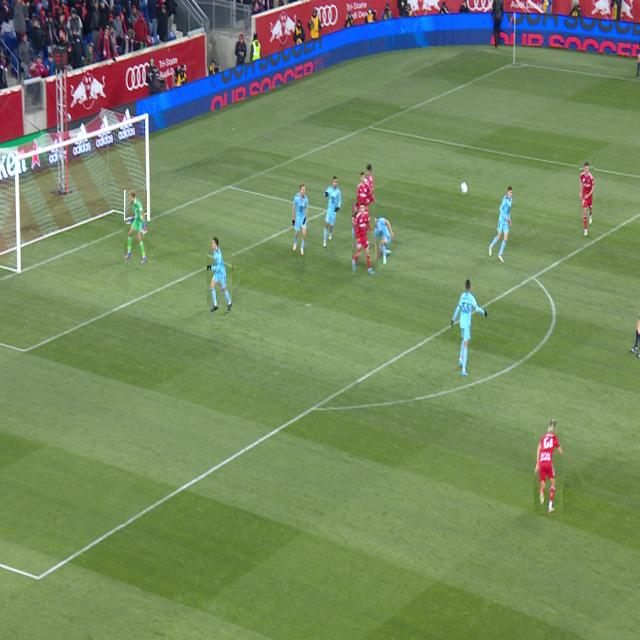football: (461, 182, 468, 196)
goalkeeper: (125, 190, 147, 263)
player: (450, 279, 487, 376), (535, 420, 563, 513), (207, 238, 232, 312), (489, 186, 513, 262), (352, 203, 375, 275), (323, 176, 341, 247), (292, 184, 308, 255), (371, 215, 394, 264), (580, 161, 594, 236), (357, 172, 373, 214), (367, 165, 374, 217), (358, 225, 361, 231)
